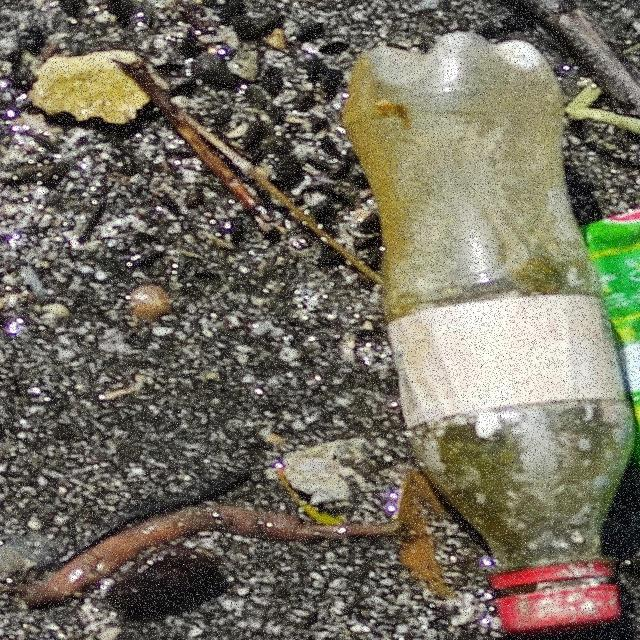plastic_waste: (337, 25, 637, 637)
